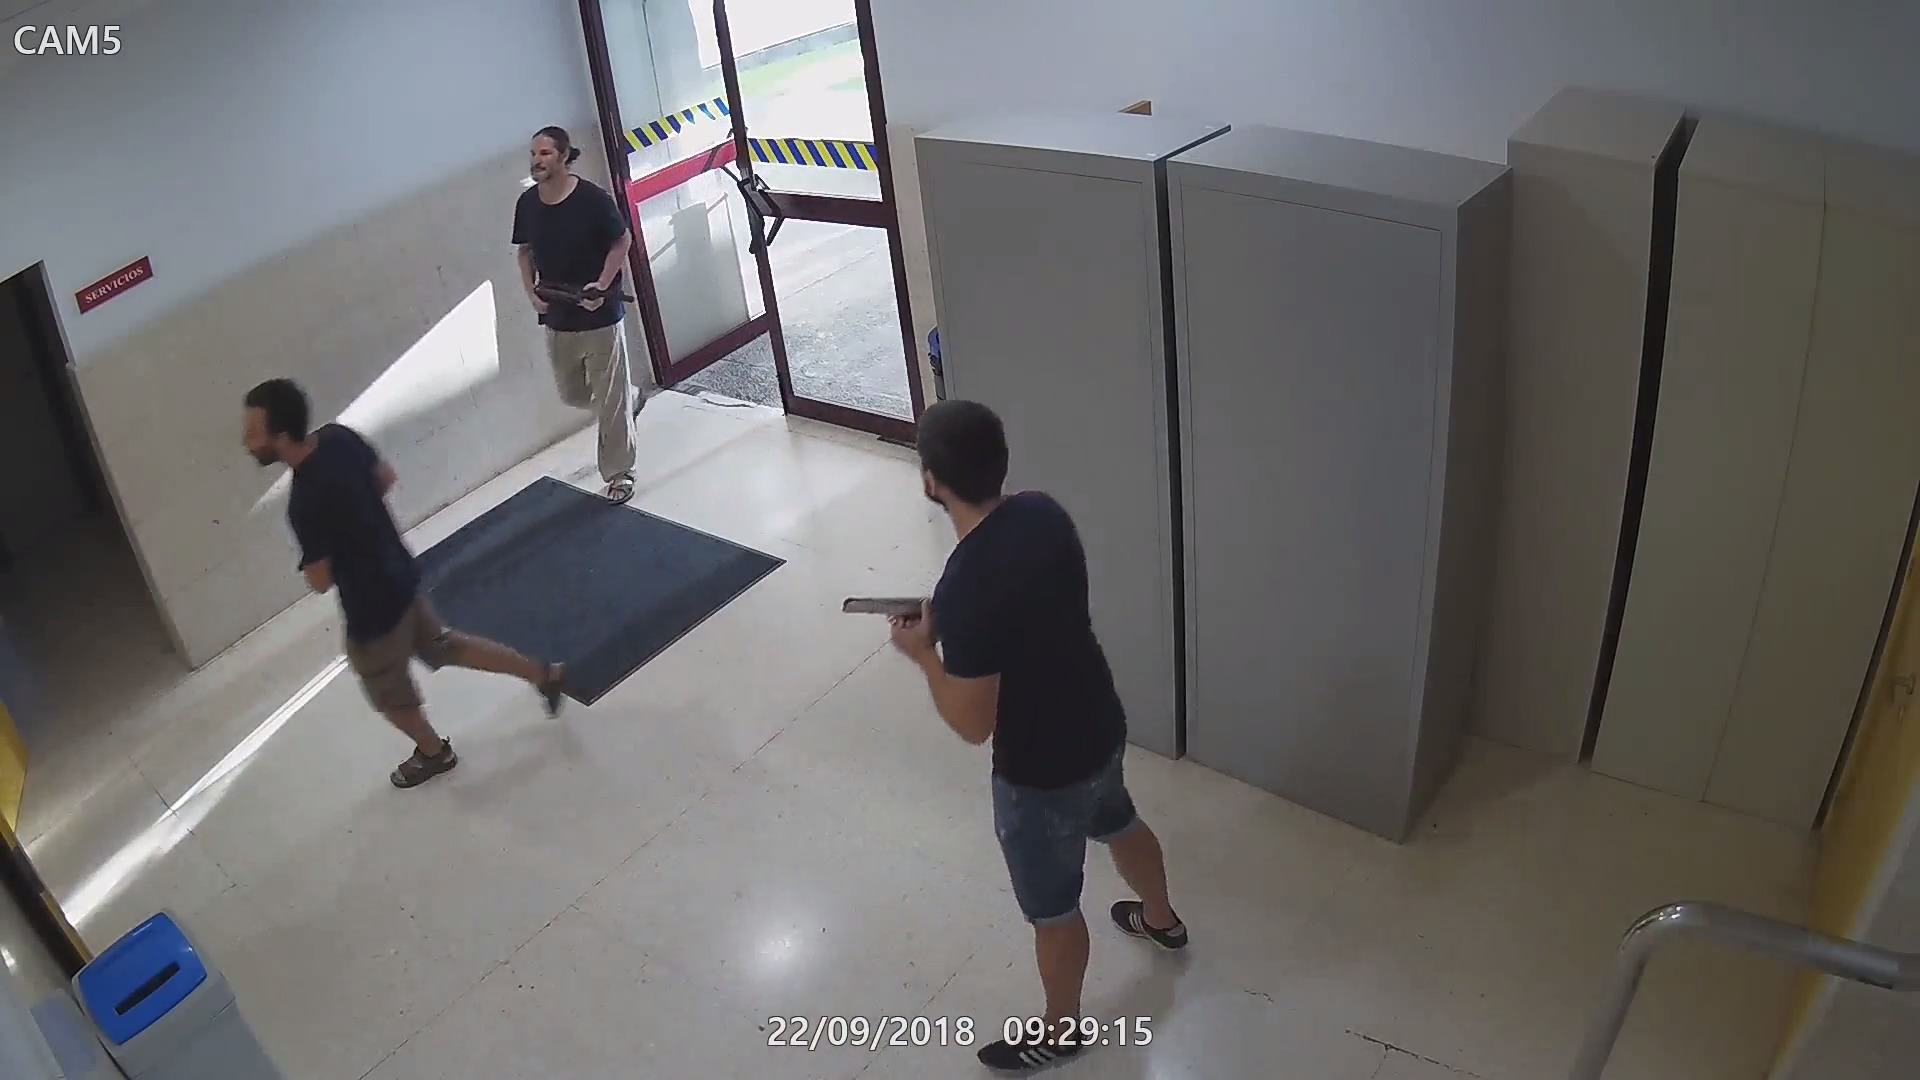pistol: (839, 589, 940, 662)
rifle: (527, 280, 645, 328)
